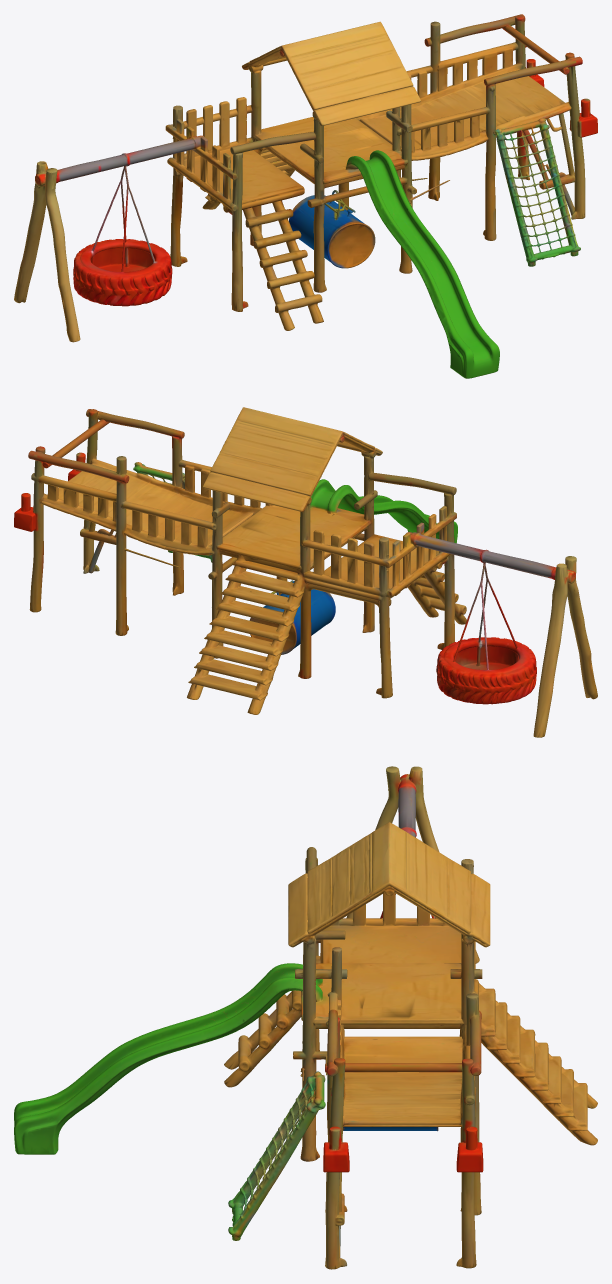
The model's file is classic-3332.glb.
3 views of the same model, one above another, from view 1: azimuth 30°, elevation 25°; view 2: azimuth 150°, elevation 25°; view 3: azimuth 270°, elevation 25° (orthographic). The views are drawn at different scales.
Visible parts, largest first — view 1: material; view 2: material; view 3: material.
Part boxes in pixels (x1,y1,x2,y2): material: (14, 14, 597, 378); material: (14, 407, 597, 737); material: (14, 766, 597, 1269).
Bounding box in the file's own units: 1.05 × 0.4417 × 0.8023.
Materials: 1 (1 with a texture image).
